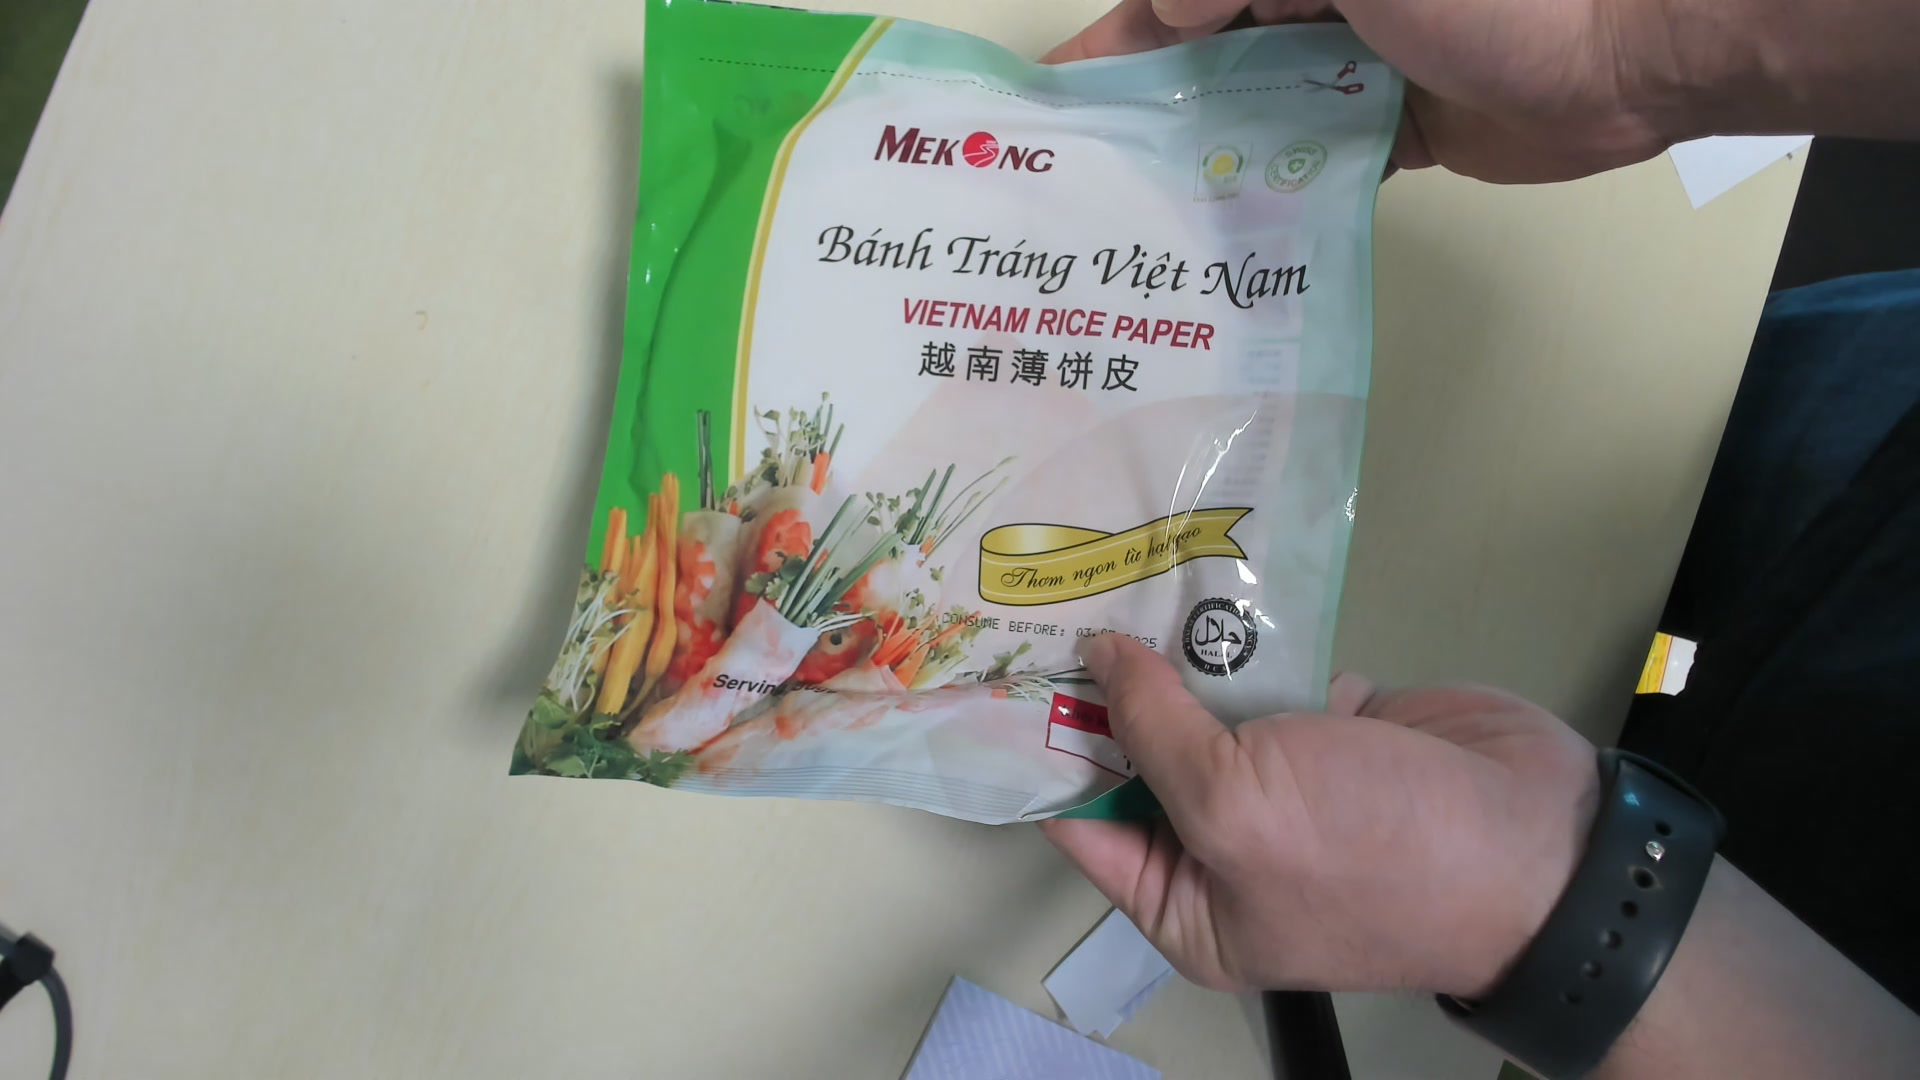InstantMeals_300_399g_NonHalal_NonHealthy: (516, 1, 1406, 843)
